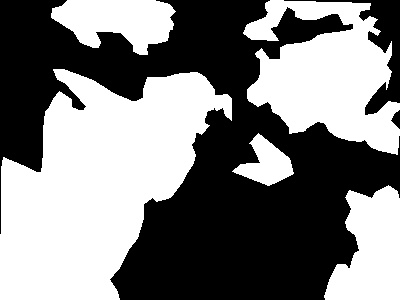Fire: (111, 91, 234, 155)
